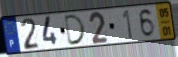1: (122, 9, 135, 41)
2: (88, 10, 110, 46), (20, 17, 40, 52)
4: (42, 15, 60, 49)
6: (138, 8, 157, 38)
D: (63, 14, 87, 47)
